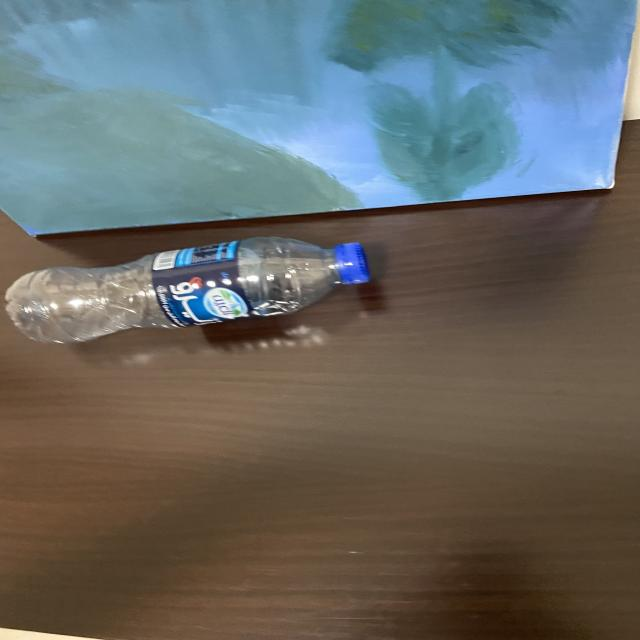bottle: (0, 230, 388, 382)
